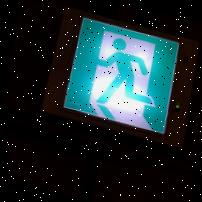emergency_exit: (62, 15, 180, 138)
